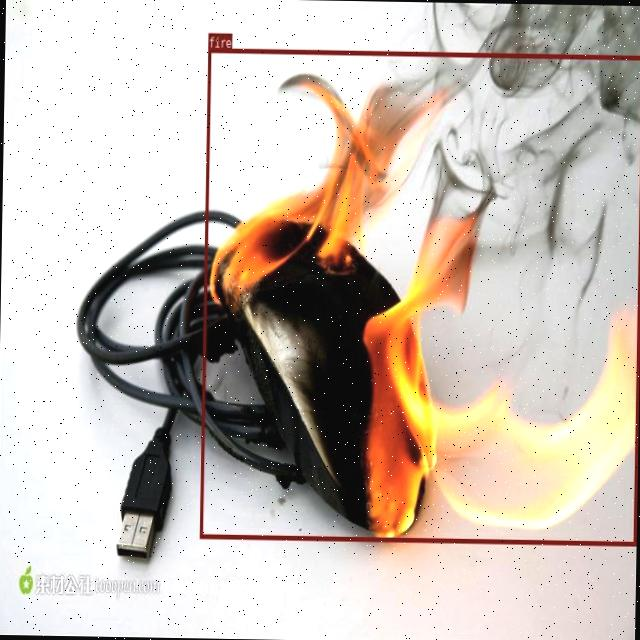fire: (199, 47, 640, 544)
